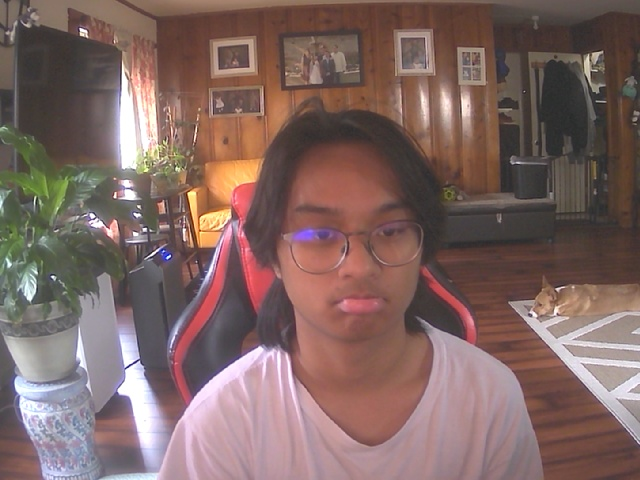sad: (268, 128, 430, 347)
